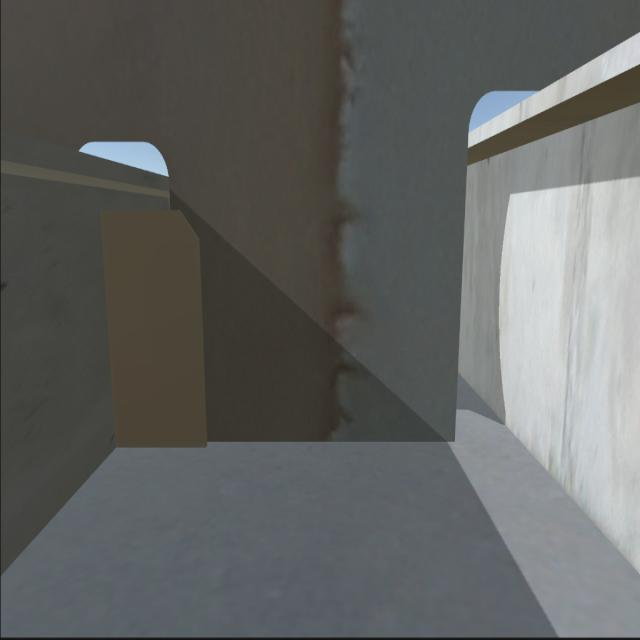fillet_yong_jeop_jang: (118, 444, 459, 449)
longi_yong_jeop_jang: (99, 221, 116, 445)
plate_CP03: (97, 211, 202, 450)
